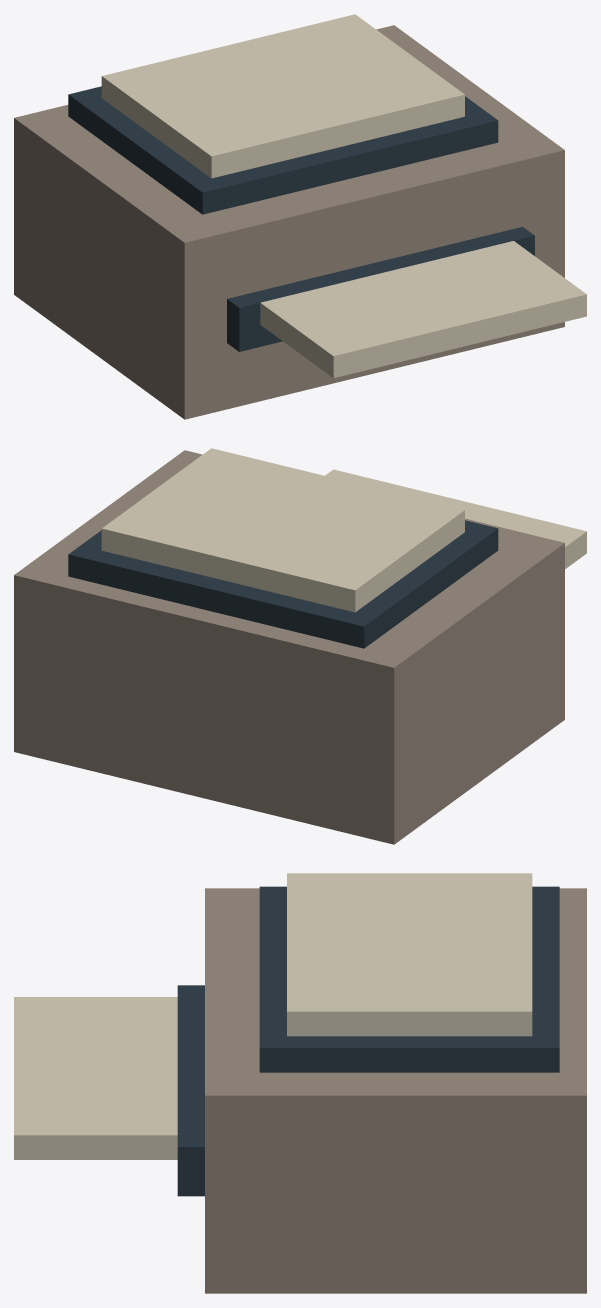
Rendered from photography-10.glb.
The picture shows the model from 3 angles, top to bottom: view 1: azimuth 30°, elevation 25°; view 2: azimuth 150°, elevation 25°; view 3: azimuth 270°, elevation 25°; orthographic projection. The views are drawn at different scales.
Visible parts, largest first — view 1: Photo printer; view 2: Photo printer; view 3: Photo printer.
Boxes of the visible parts, x1,y1,x2,y2 form: Photo printer: (14, 14, 586, 419); Photo printer: (14, 448, 586, 844); Photo printer: (14, 873, 586, 1293).
Size of the model in its own units: 1.44 by 0.8 by 1.68.
